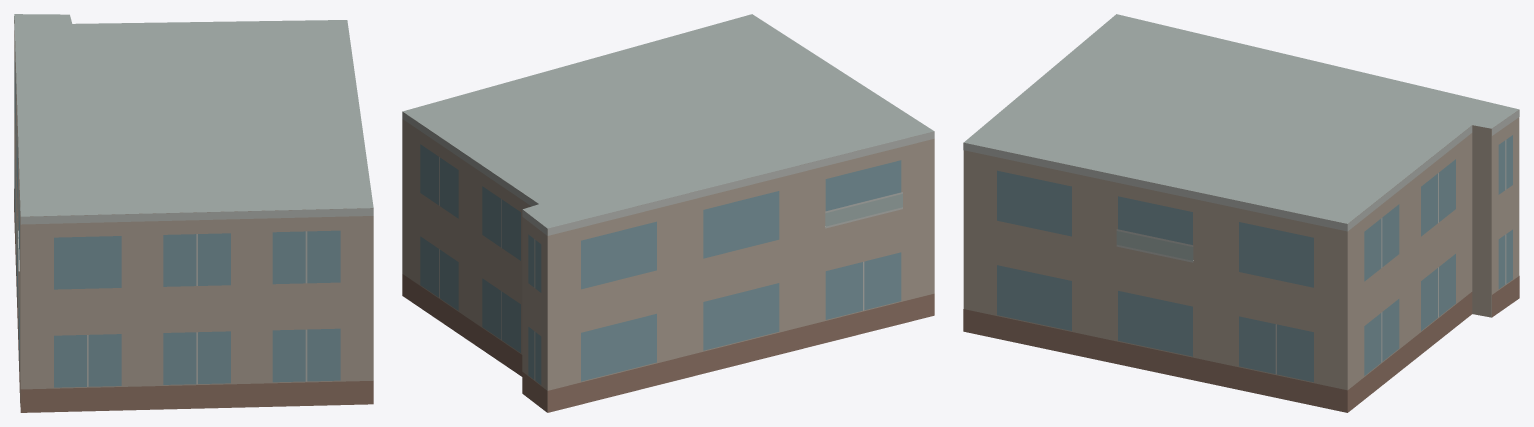
Rendered from survey-upis-32795408.glb.
3 renders of one model, left to right at view 1: azimuth 30°, elevation 25°; view 2: azimuth 150°, elevation 25°; view 3: azimuth 270°, elevation 25°, orthographic. The views are drawn at different scales.
Visible parts, largest first — view 1: survey-upis-32795408.tmp; view 2: survey-upis-32795408.tmp; view 3: survey-upis-32795408.tmp.
Part boxes in pixels (<box>): survey-upis-32795408.tmp: <box>14,14,373,412</box>; survey-upis-32795408.tmp: <box>402,14,934,412</box>; survey-upis-32795408.tmp: <box>963,14,1519,412</box>.
Bounding box in the file's own units: 14.55 × 6.1 × 16.28.
